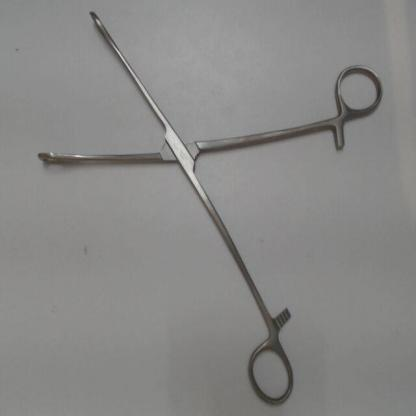Sponge Forceps: (30, 7, 386, 410)
